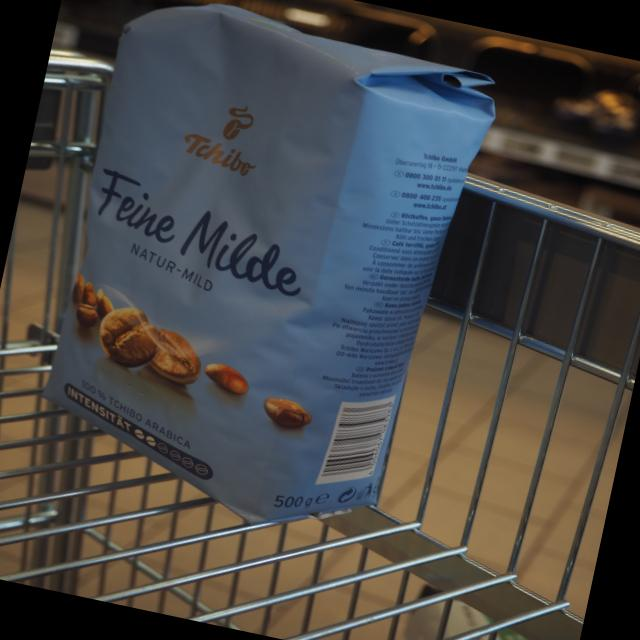FM Bohne: (16, 0, 510, 560)
